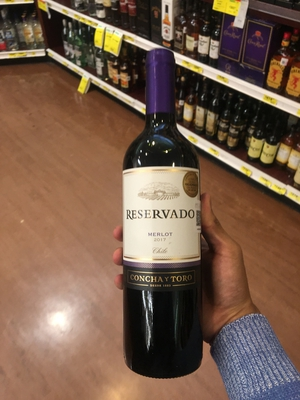reservado merlot: (98, 53, 228, 365)
